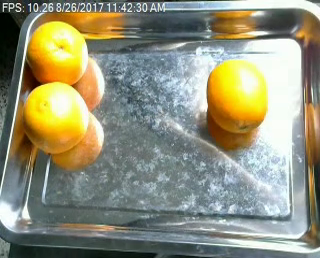Orange: (22, 81, 90, 153), (206, 57, 269, 133), (27, 20, 89, 86)
